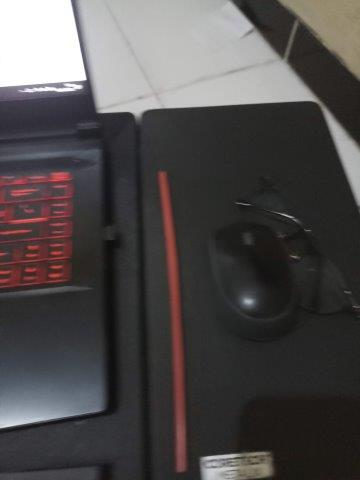sedotan: (158, 172, 186, 471)
